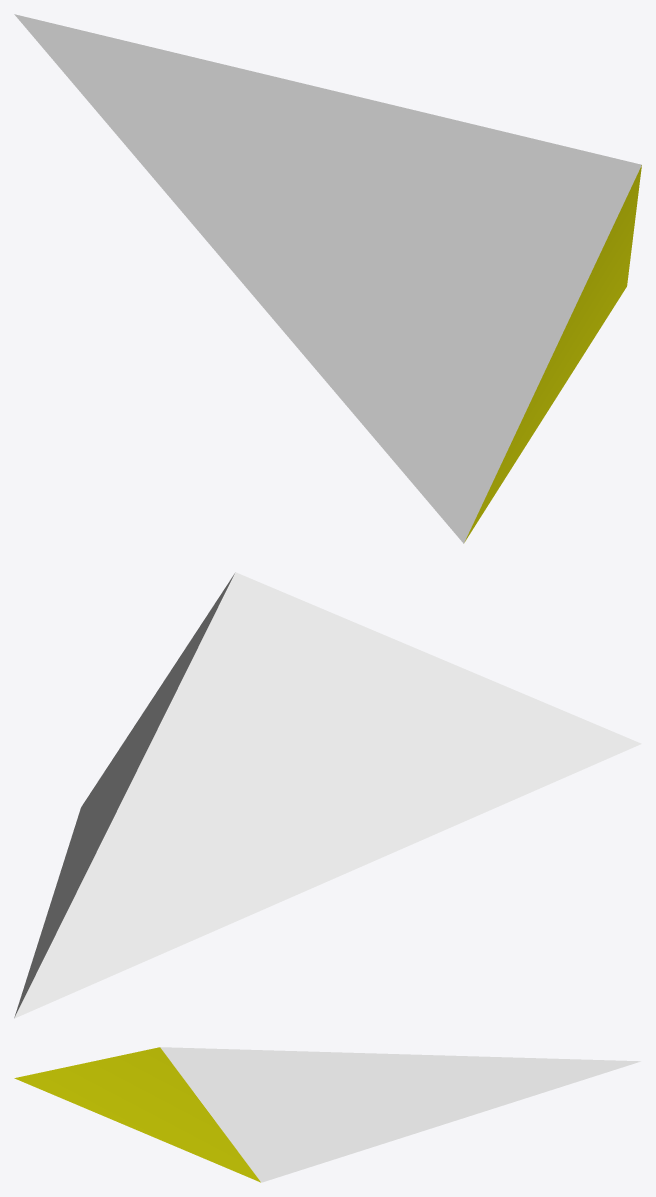
Rendered from mdl_ciudadela_casa_pilar1_fracturepart17_2.fbx.
The picture shows the model from 3 angles, top to bottom: view 1: azimuth 30°, elevation 25°; view 2: azimuth 150°, elevation 25°; view 3: azimuth 270°, elevation 25°; orthographic projection. The views are drawn at different scales.
Visible parts, largest first — view 1: mdl_ciudadela_casa_pilar1_fracturepart17_2; view 2: mdl_ciudadela_casa_pilar1_fracturepart17_2; view 3: mdl_ciudadela_casa_pilar1_fracturepart17_2.
Part boxes in pixels (x1=…): mdl_ciudadela_casa_pilar1_fracturepart17_2: x1=14, y1=14, x2=641, y2=543; mdl_ciudadela_casa_pilar1_fracturepart17_2: x1=14, y1=572, x2=641, y2=1018; mdl_ciudadela_casa_pilar1_fracturepart17_2: x1=14, y1=1047, x2=640, y2=1182.
Bounding box in the file's own units: 0.00927 × 0.00475 × 0.0235.
